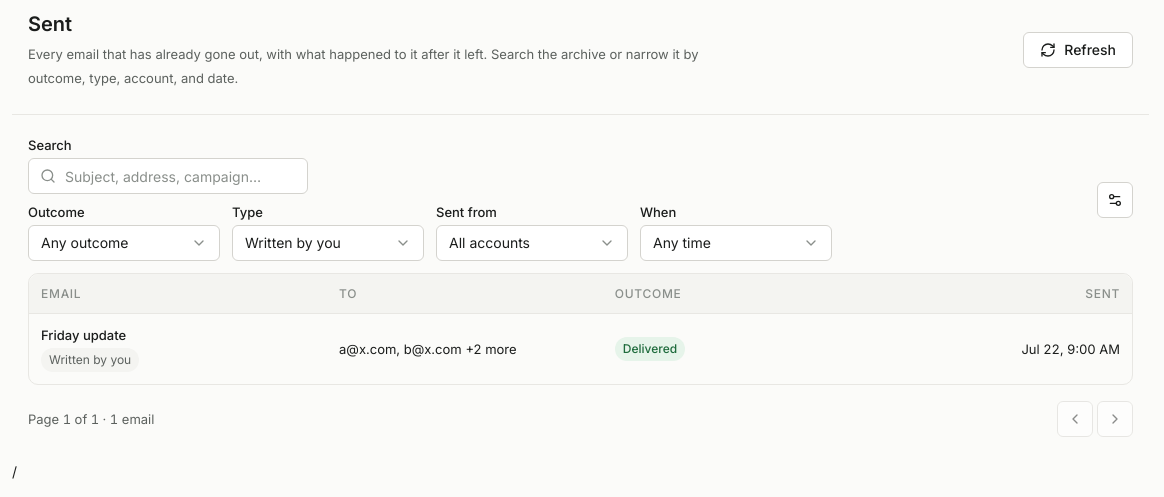
Test: Sent › opens a row at the message's own address
Click the text "Friday update" at (84, 335), box [41,327,126,343]
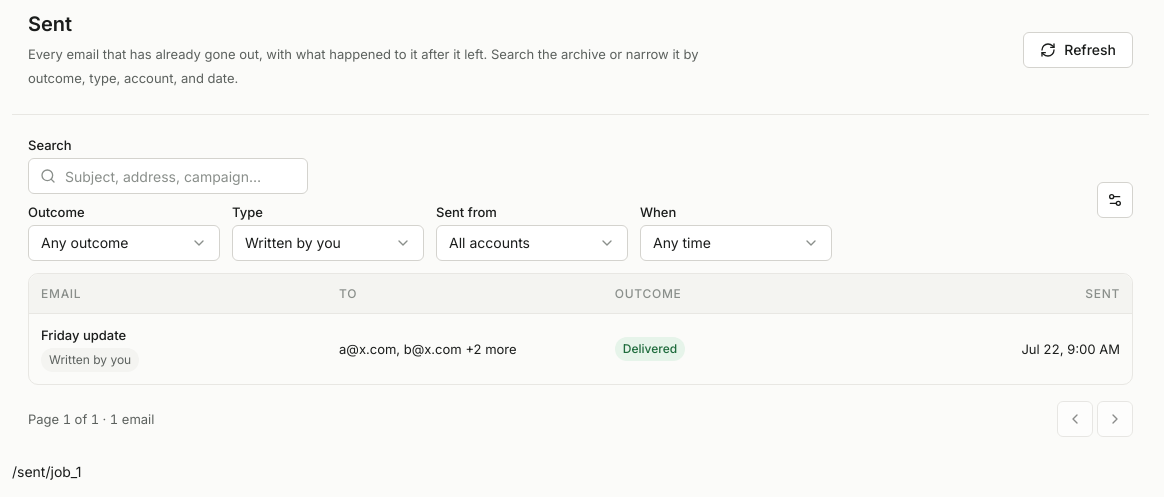
Expected: the text with test id "url" reads "/sent/job_1", [12,463,81,480]
